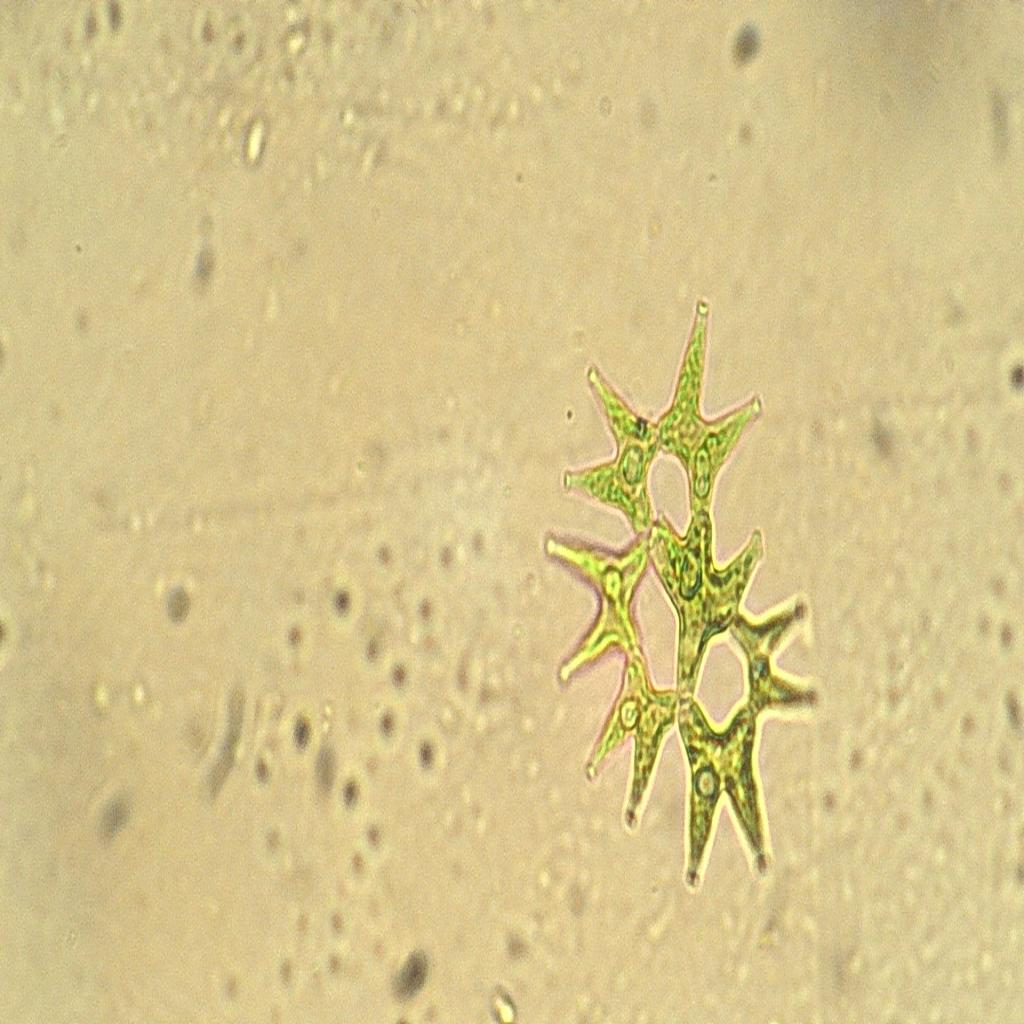Pediastrum_CFI: (530, 287, 840, 908)
